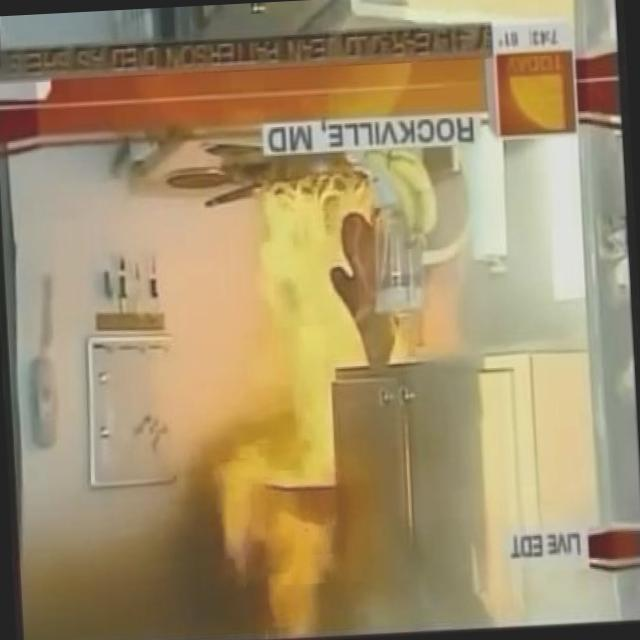fire: (235, 189, 353, 638)
